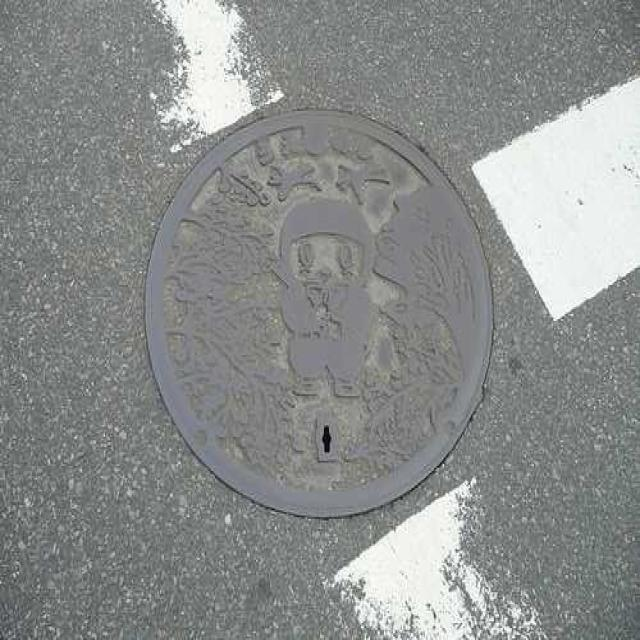manhole: (143, 108, 495, 521)
